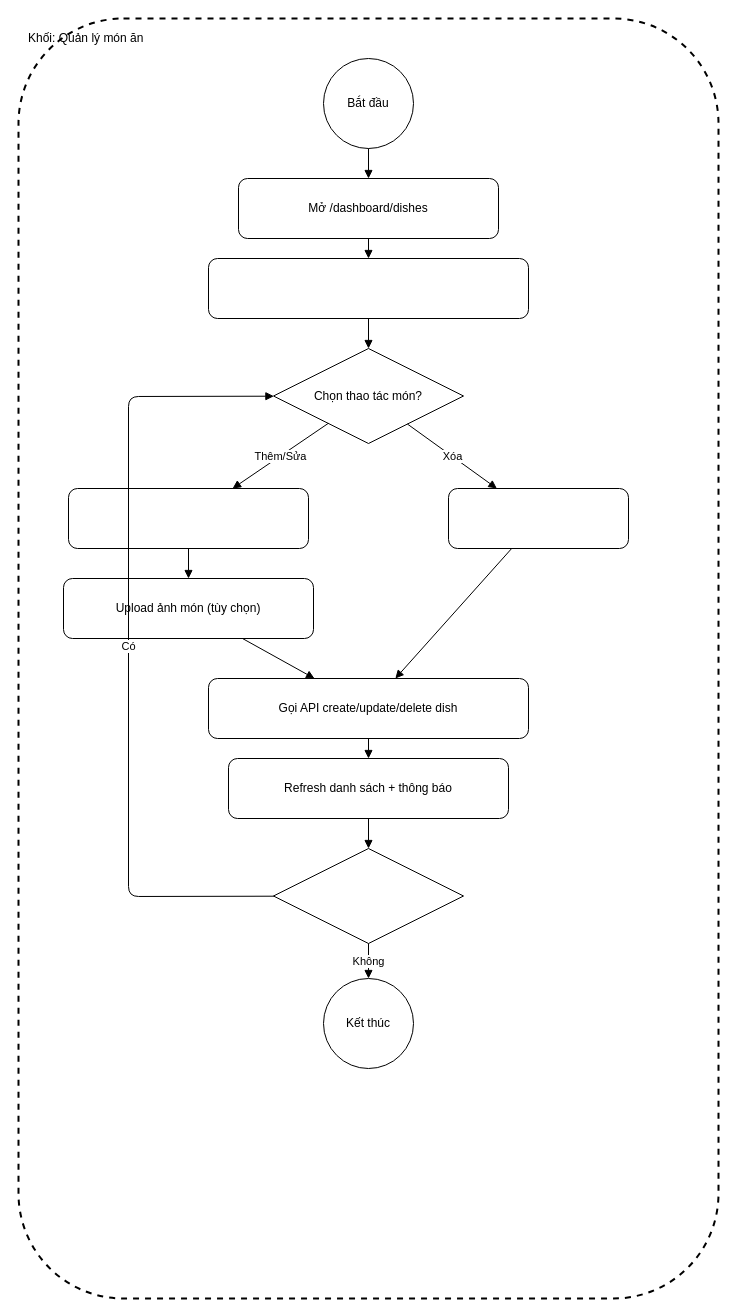
Image size: 736x1316. Some labels were removed from this diagram. Each missing label, with the centre of its shape:
Thêm hoặc cập nhật món: [188,518]
Tiếp tục quản lý món?: [368,896]
Tải danh sách món và ảnh liên quan: [368,288]
Xóa món: [538,518]
